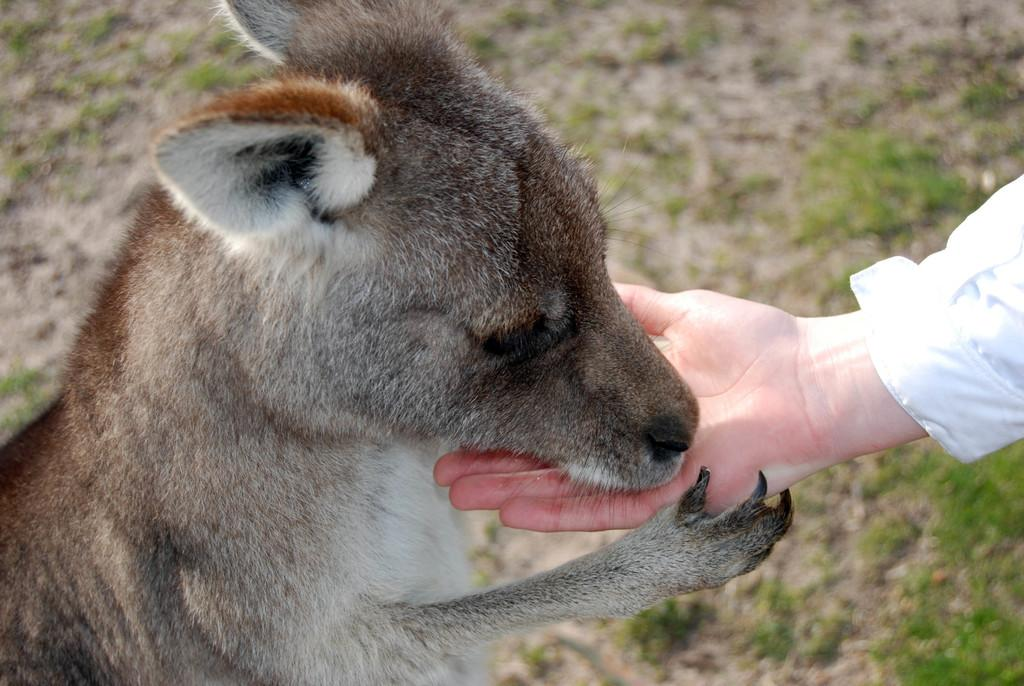kangaroo: (0, 0, 797, 685)
